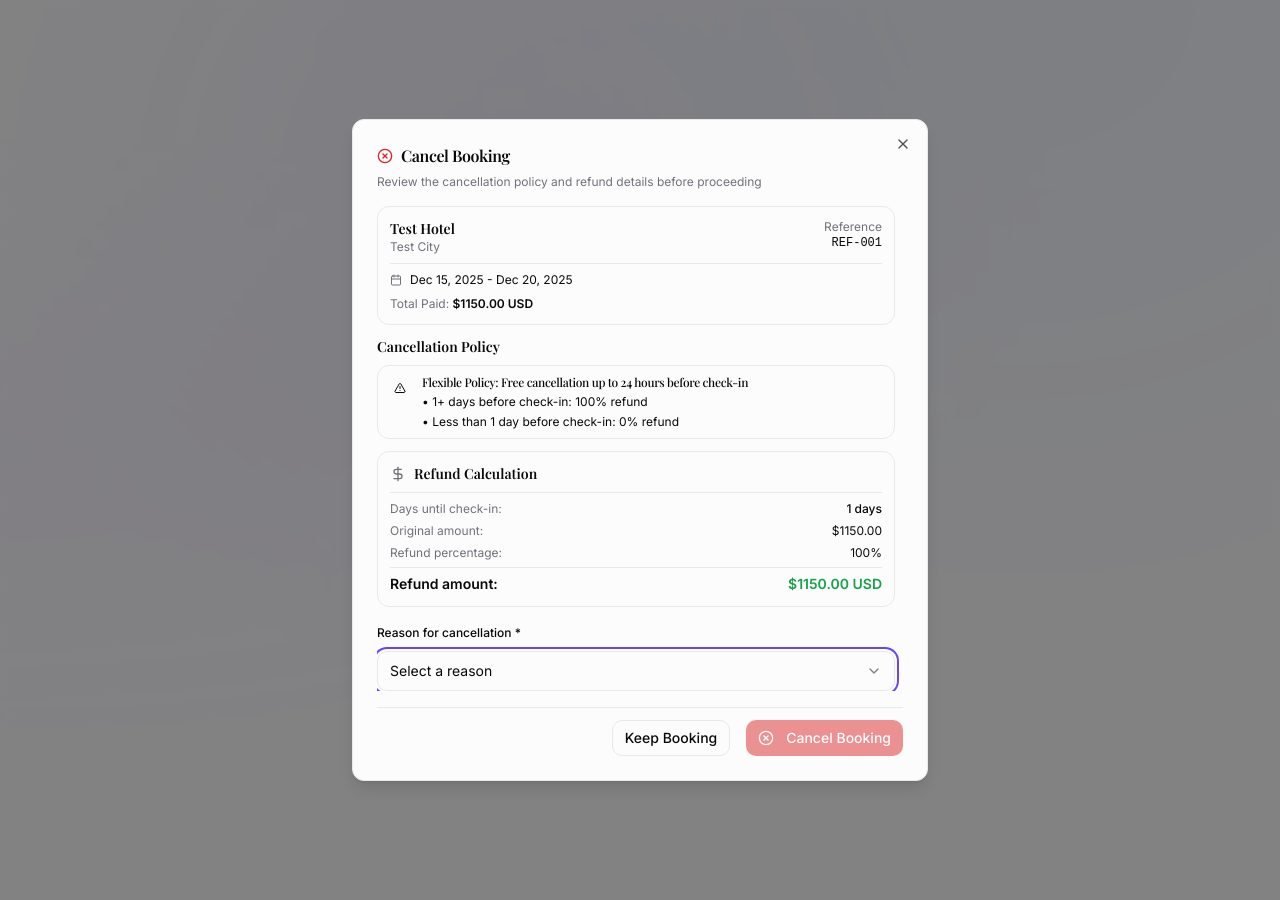
it: CancelBooking › Cancellation Flow › should show confirmation dialog before final cancellation
Step 1. Click the dropdown → {"x": 441, "y": 670}, box 377,651 -> 895,691
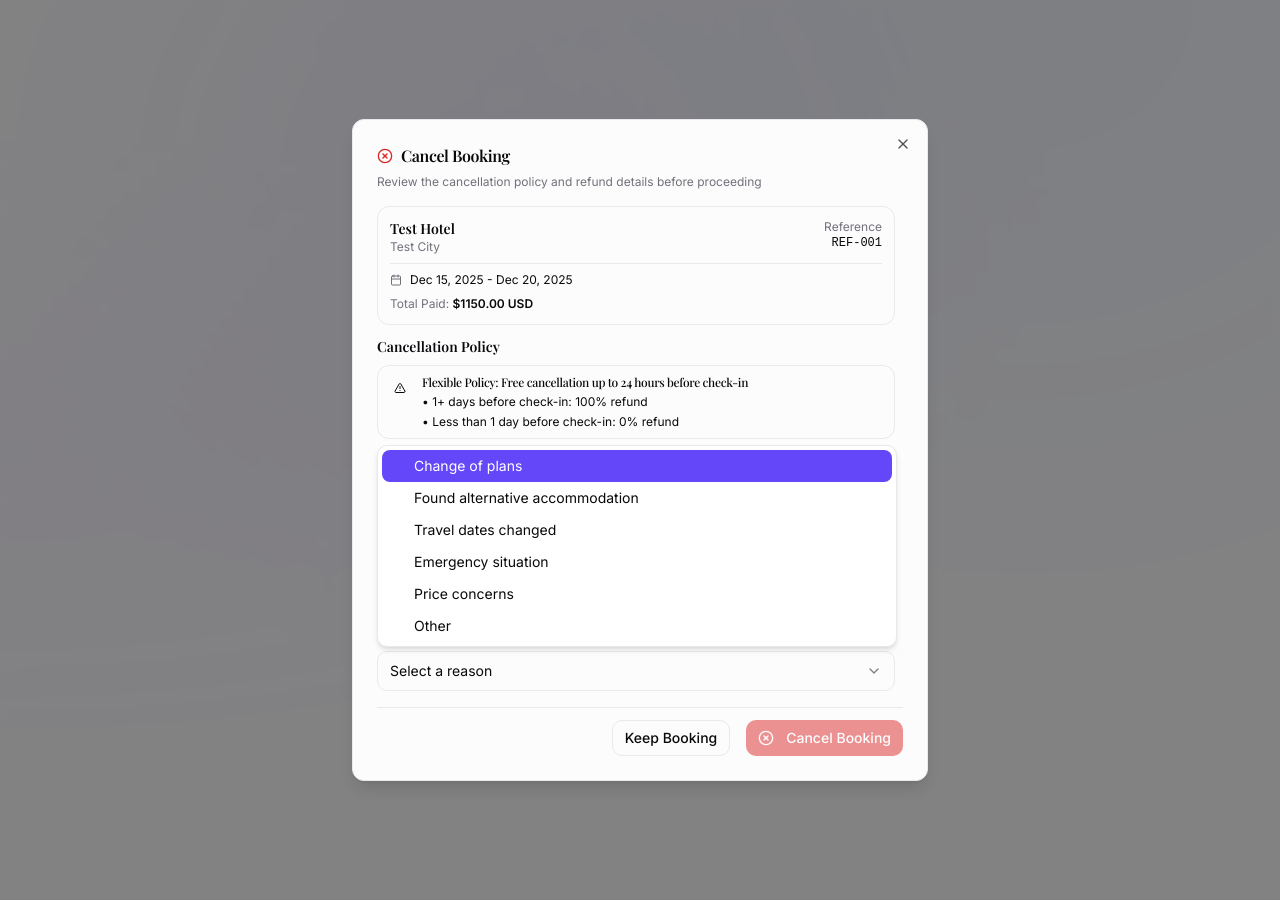
Step 2. Click the option "Change of plans" → {"x": 468, "y": 466}, box 382,450 -> 892,482
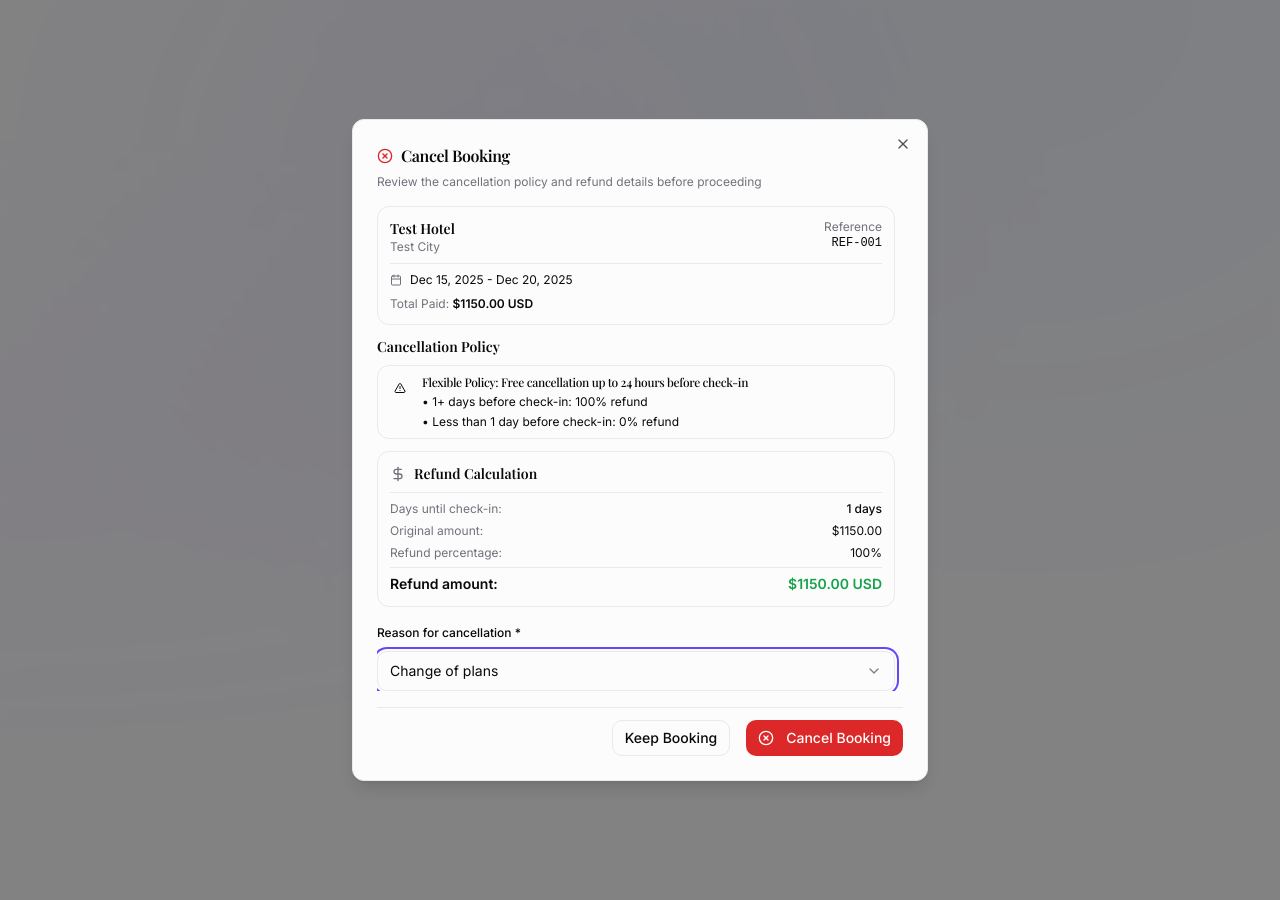
Step 3. Click the button "Cancel Booking" → {"x": 825, "y": 738}, box 746,720 -> 903,756
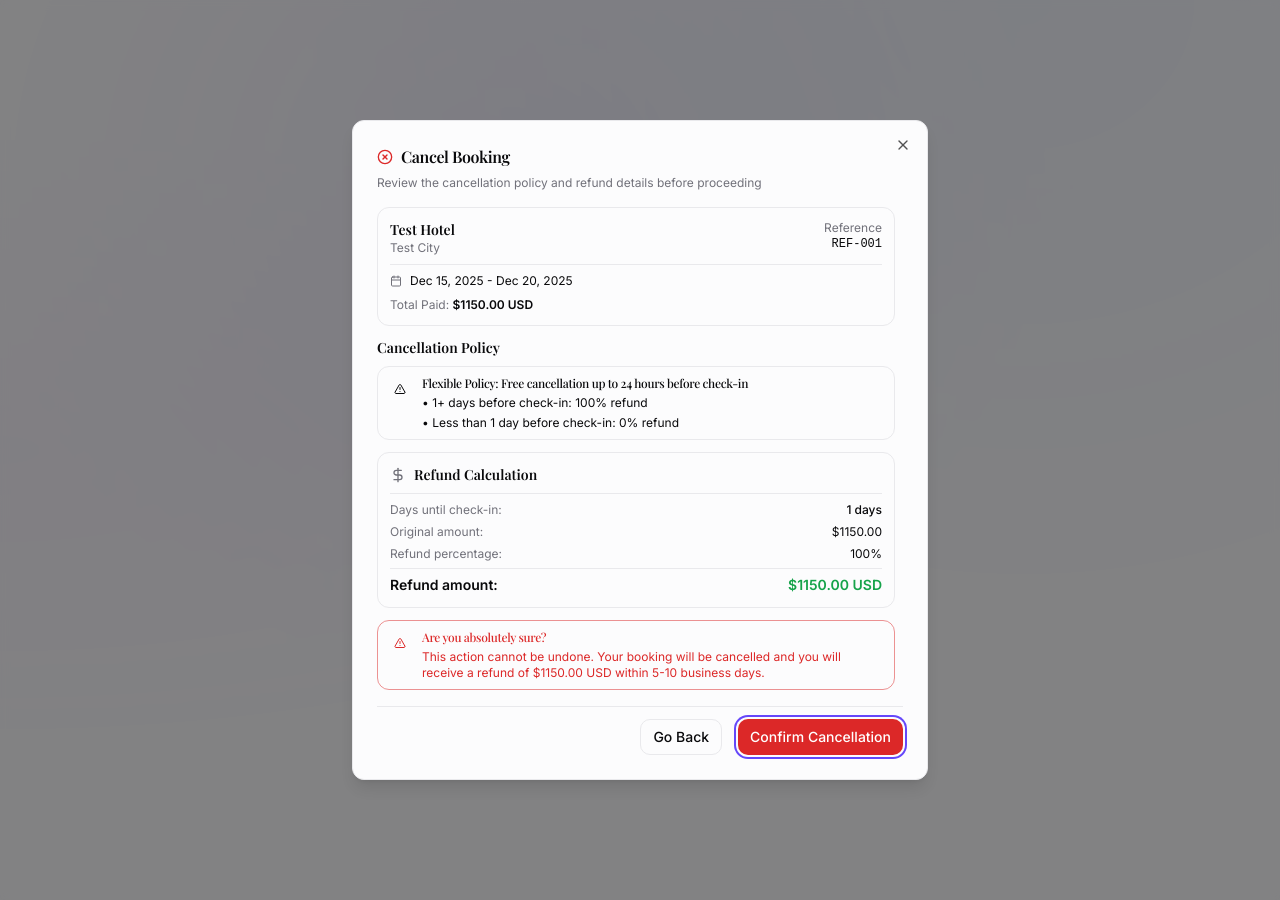
Result: the heading "Are you absolutely sure?" is shown at 422,629 -> 546,645
Result: the text "This action cannot be undone" is shown at 422,649 -> 841,680
